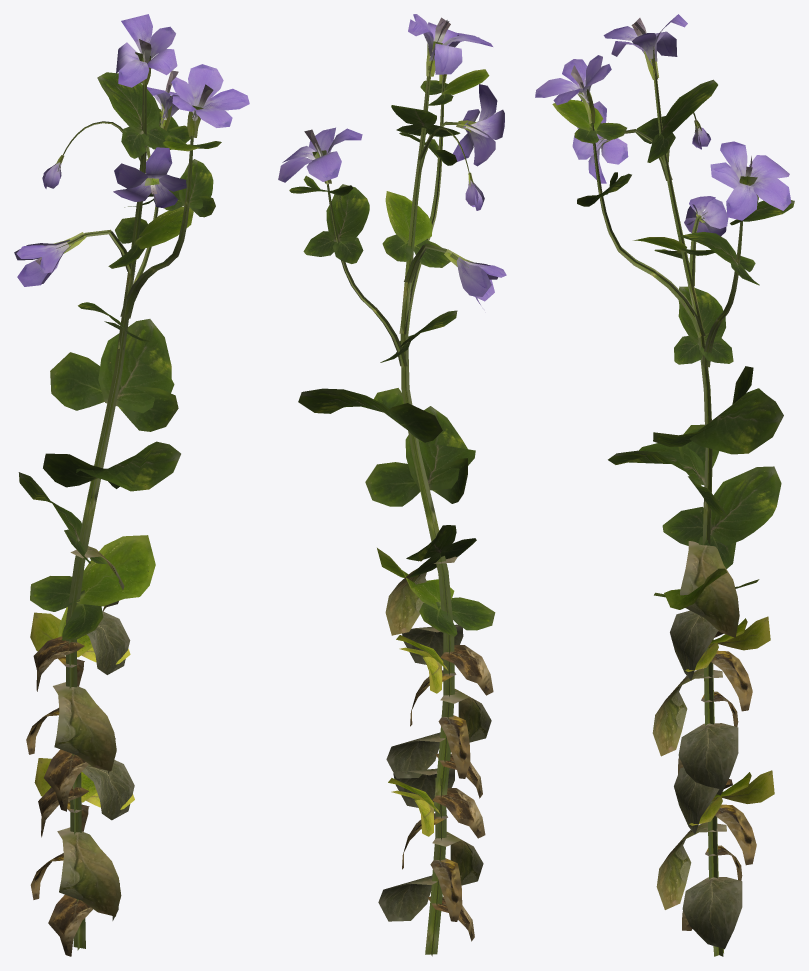
The model's file is Periwinkle_bush_short_purple.glb.
The picture shows the model from 3 angles, left to right: view 1: azimuth 30°, elevation 25°; view 2: azimuth 150°, elevation 25°; view 3: azimuth 270°, elevation 25°; orthographic projection. The views are drawn at different scales.
Parts seen in each view (by area): view 1: _419c_Var3_LOD1.2; view 2: _419c_Var3_LOD1.2; view 3: _419c_Var3_LOD1.2.
Boxes of the visible parts, x1=… form: _419c_Var3_LOD1.2: x1=14, y1=14, x2=249, y2=956; _419c_Var3_LOD1.2: x1=278, y1=14, x2=506, y2=956; _419c_Var3_LOD1.2: x1=535, y1=14, x2=794, y2=956.
Size of the model in its own units: 0.6129 by 2.59 by 0.6394.
Materials: 1 (1 with a texture image).
